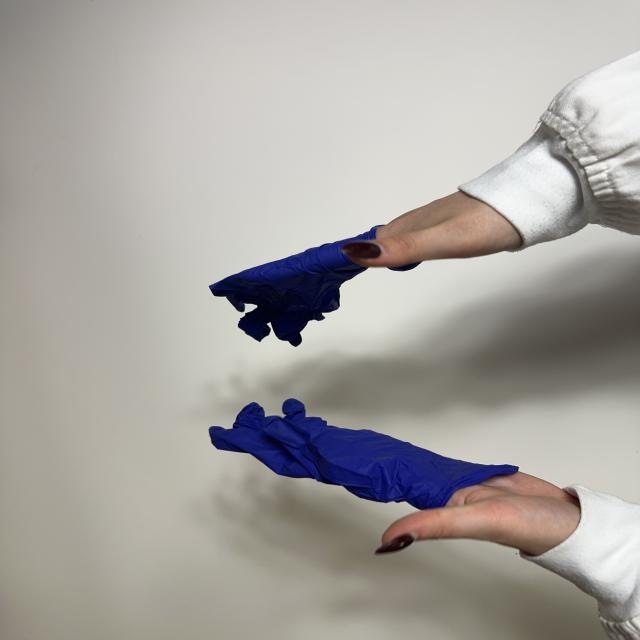glove_partial: (210, 400, 580, 555), (213, 192, 521, 346)
